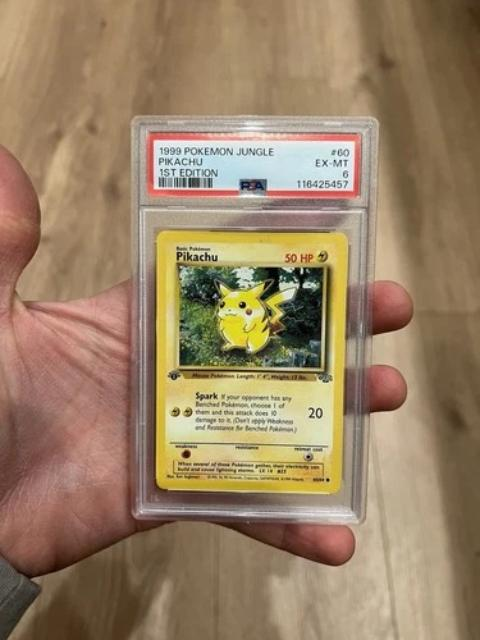Card: (151, 224, 351, 494)
Name: (170, 250, 221, 264)
